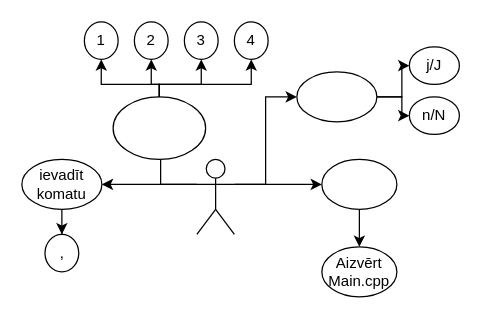
Image size: 481x319. Some labels were removed from this diagram. Here are the shapes that lost their labels. From the top down, the box of each, then its label:
(296, 71, 377, 122): spēlēt vēlreiz
(112, 96, 206, 159): ievadiet atbilžu variant
(196, 158, 234, 234): Windows Lietotājs
(321, 158, 397, 209): Startēt Main.cpp
